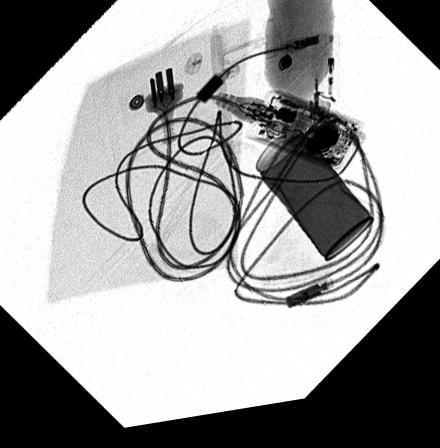Lighter: (281, 289, 333, 318)
